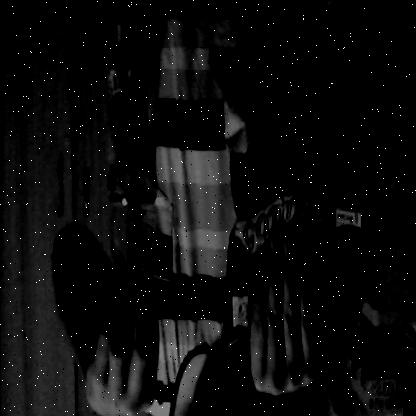Plastic Bottle: (100, 33, 162, 341)
